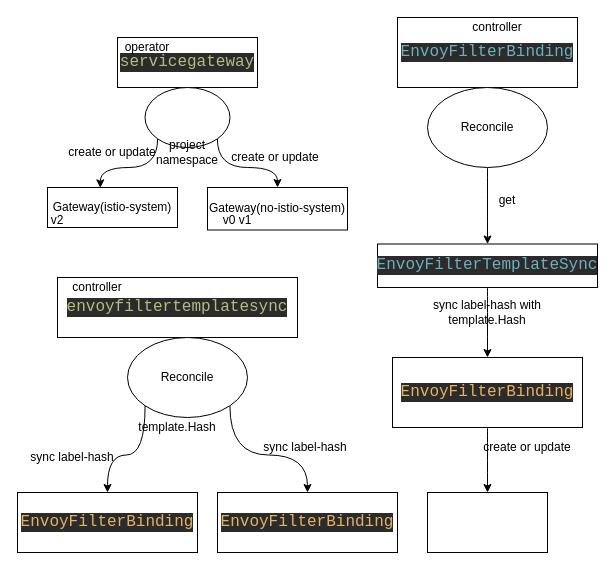
This 615x570 diagram has some shape labels left out. Each missing label, with the centre of its shape:
"EnvoyFilter" goes at (487,522).
"Reconcile: sync host" goes at (187,117).
